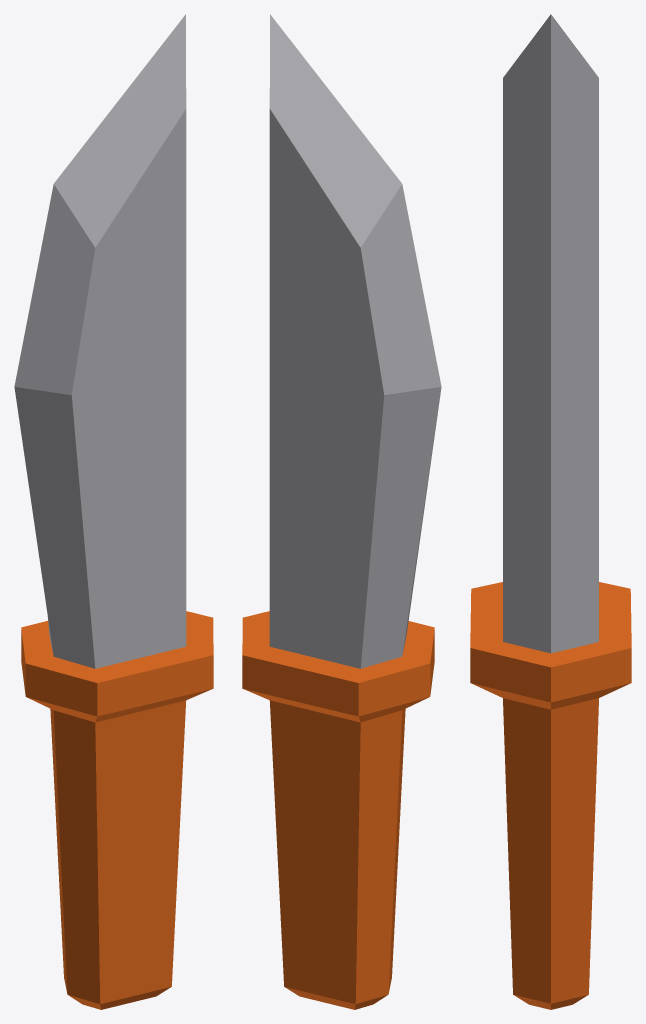
File: cuchillo .fbx
3 renders of one model, left to right at view 1: azimuth 30°, elevation 25°; view 2: azimuth 150°, elevation 25°; view 3: azimuth 270°, elevation 25°, orthographic. The views are drawn at different scales.
Parts seen in each view (by area): view 1: Cuchillo; view 2: Cuchillo; view 3: Cuchillo.
Boxes of the visible parts, x1=… form: Cuchillo: x1=14, y1=14, x2=213, y2=1009; Cuchillo: x1=242, y1=14, x2=441, y2=1009; Cuchillo: x1=470, y1=14, x2=631, y2=1009.
Bounding box in the file's own units: 117 × 541 × 78.35.
